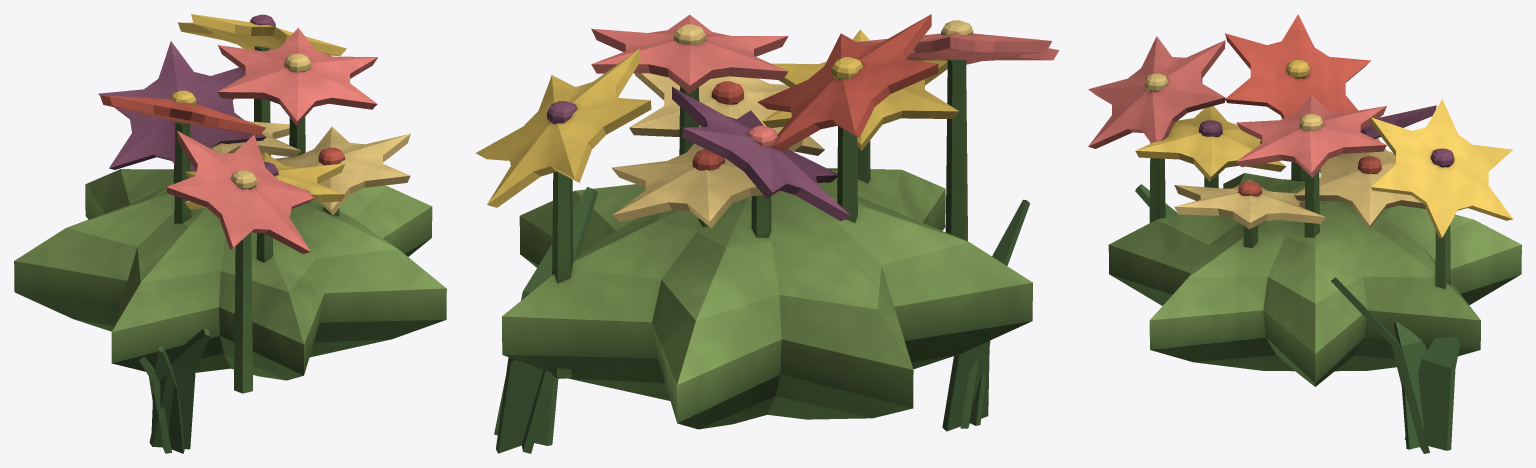
File: blossom.glb
3 views of the same model, side by side, from view 1: azimuth 30°, elevation 25°; view 2: azimuth 150°, elevation 25°; view 3: azimuth 270°, elevation 25° (orthographic). The views are drawn at different scales.
Visible parts, largest first — view 1: Blossom, v_blossom_f_grass_deep; view 2: Blossom, v_blossom_f_grass_deep; view 3: Blossom, v_blossom_f_grass_deep.
Part boxes in pixels (x1,y1,x2,y2): Blossom: (14, 14, 446, 393); v_blossom_f_grass_deep: (139, 328, 210, 453); Blossom: (476, 14, 1059, 429); v_blossom_f_grass_deep: (494, 187, 1029, 453); Blossom: (1088, 14, 1521, 386); v_blossom_f_grass_deep: (1135, 184, 1459, 453).
Size of the model in its own units: 0.4378 by 0.3719 by 0.4716.
2 materials, 1 textured.
